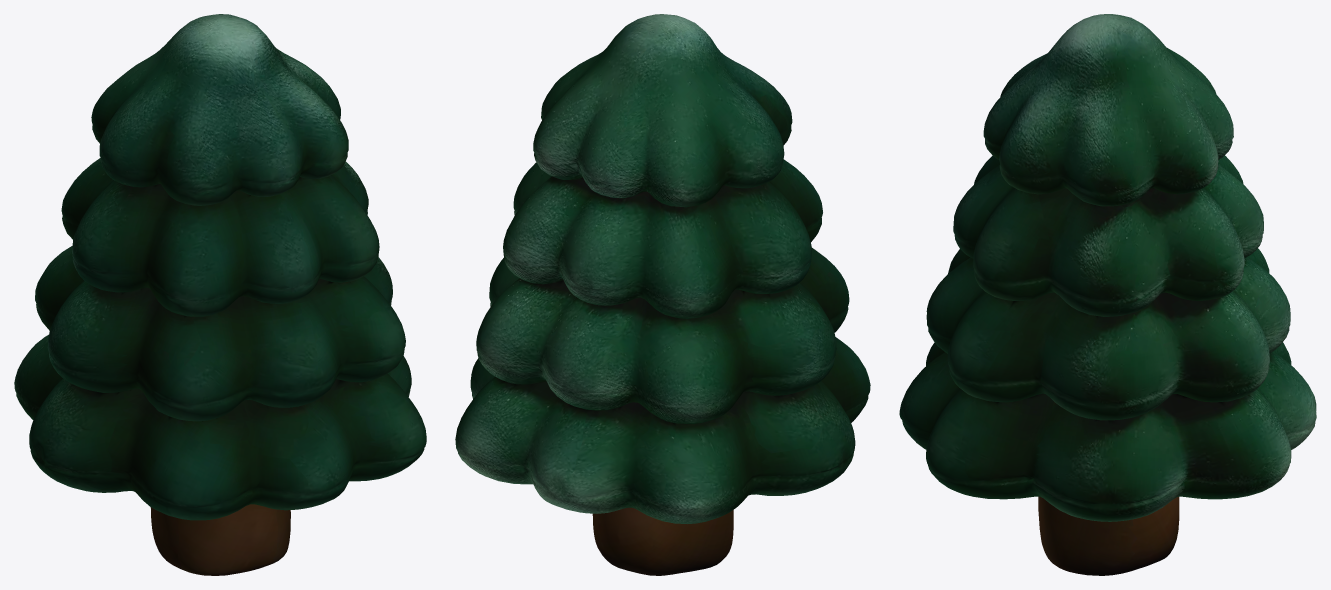
Rendered from pine.glb.
3 views of the same model, side by side, from view 1: azimuth 30°, elevation 25°; view 2: azimuth 150°, elevation 25°; view 3: azimuth 270°, elevation 25° (orthographic).
Visible parts, largest first — view 1: tripo_node_edce8b13-edd0-4216-b173-b11273350206; view 2: tripo_node_edce8b13-edd0-4216-b173-b11273350206; view 3: tripo_node_edce8b13-edd0-4216-b173-b11273350206.
Part boxes in pixels (x1,y1,x2,y2): tripo_node_edce8b13-edd0-4216-b173-b11273350206: (14, 14, 426, 575); tripo_node_edce8b13-edd0-4216-b173-b11273350206: (455, 14, 870, 575); tripo_node_edce8b13-edd0-4216-b173-b11273350206: (899, 14, 1316, 575).
Size of the model in its own units: 0.7137 by 1 by 0.7092.
Materials: 1 (1 with a texture image).
